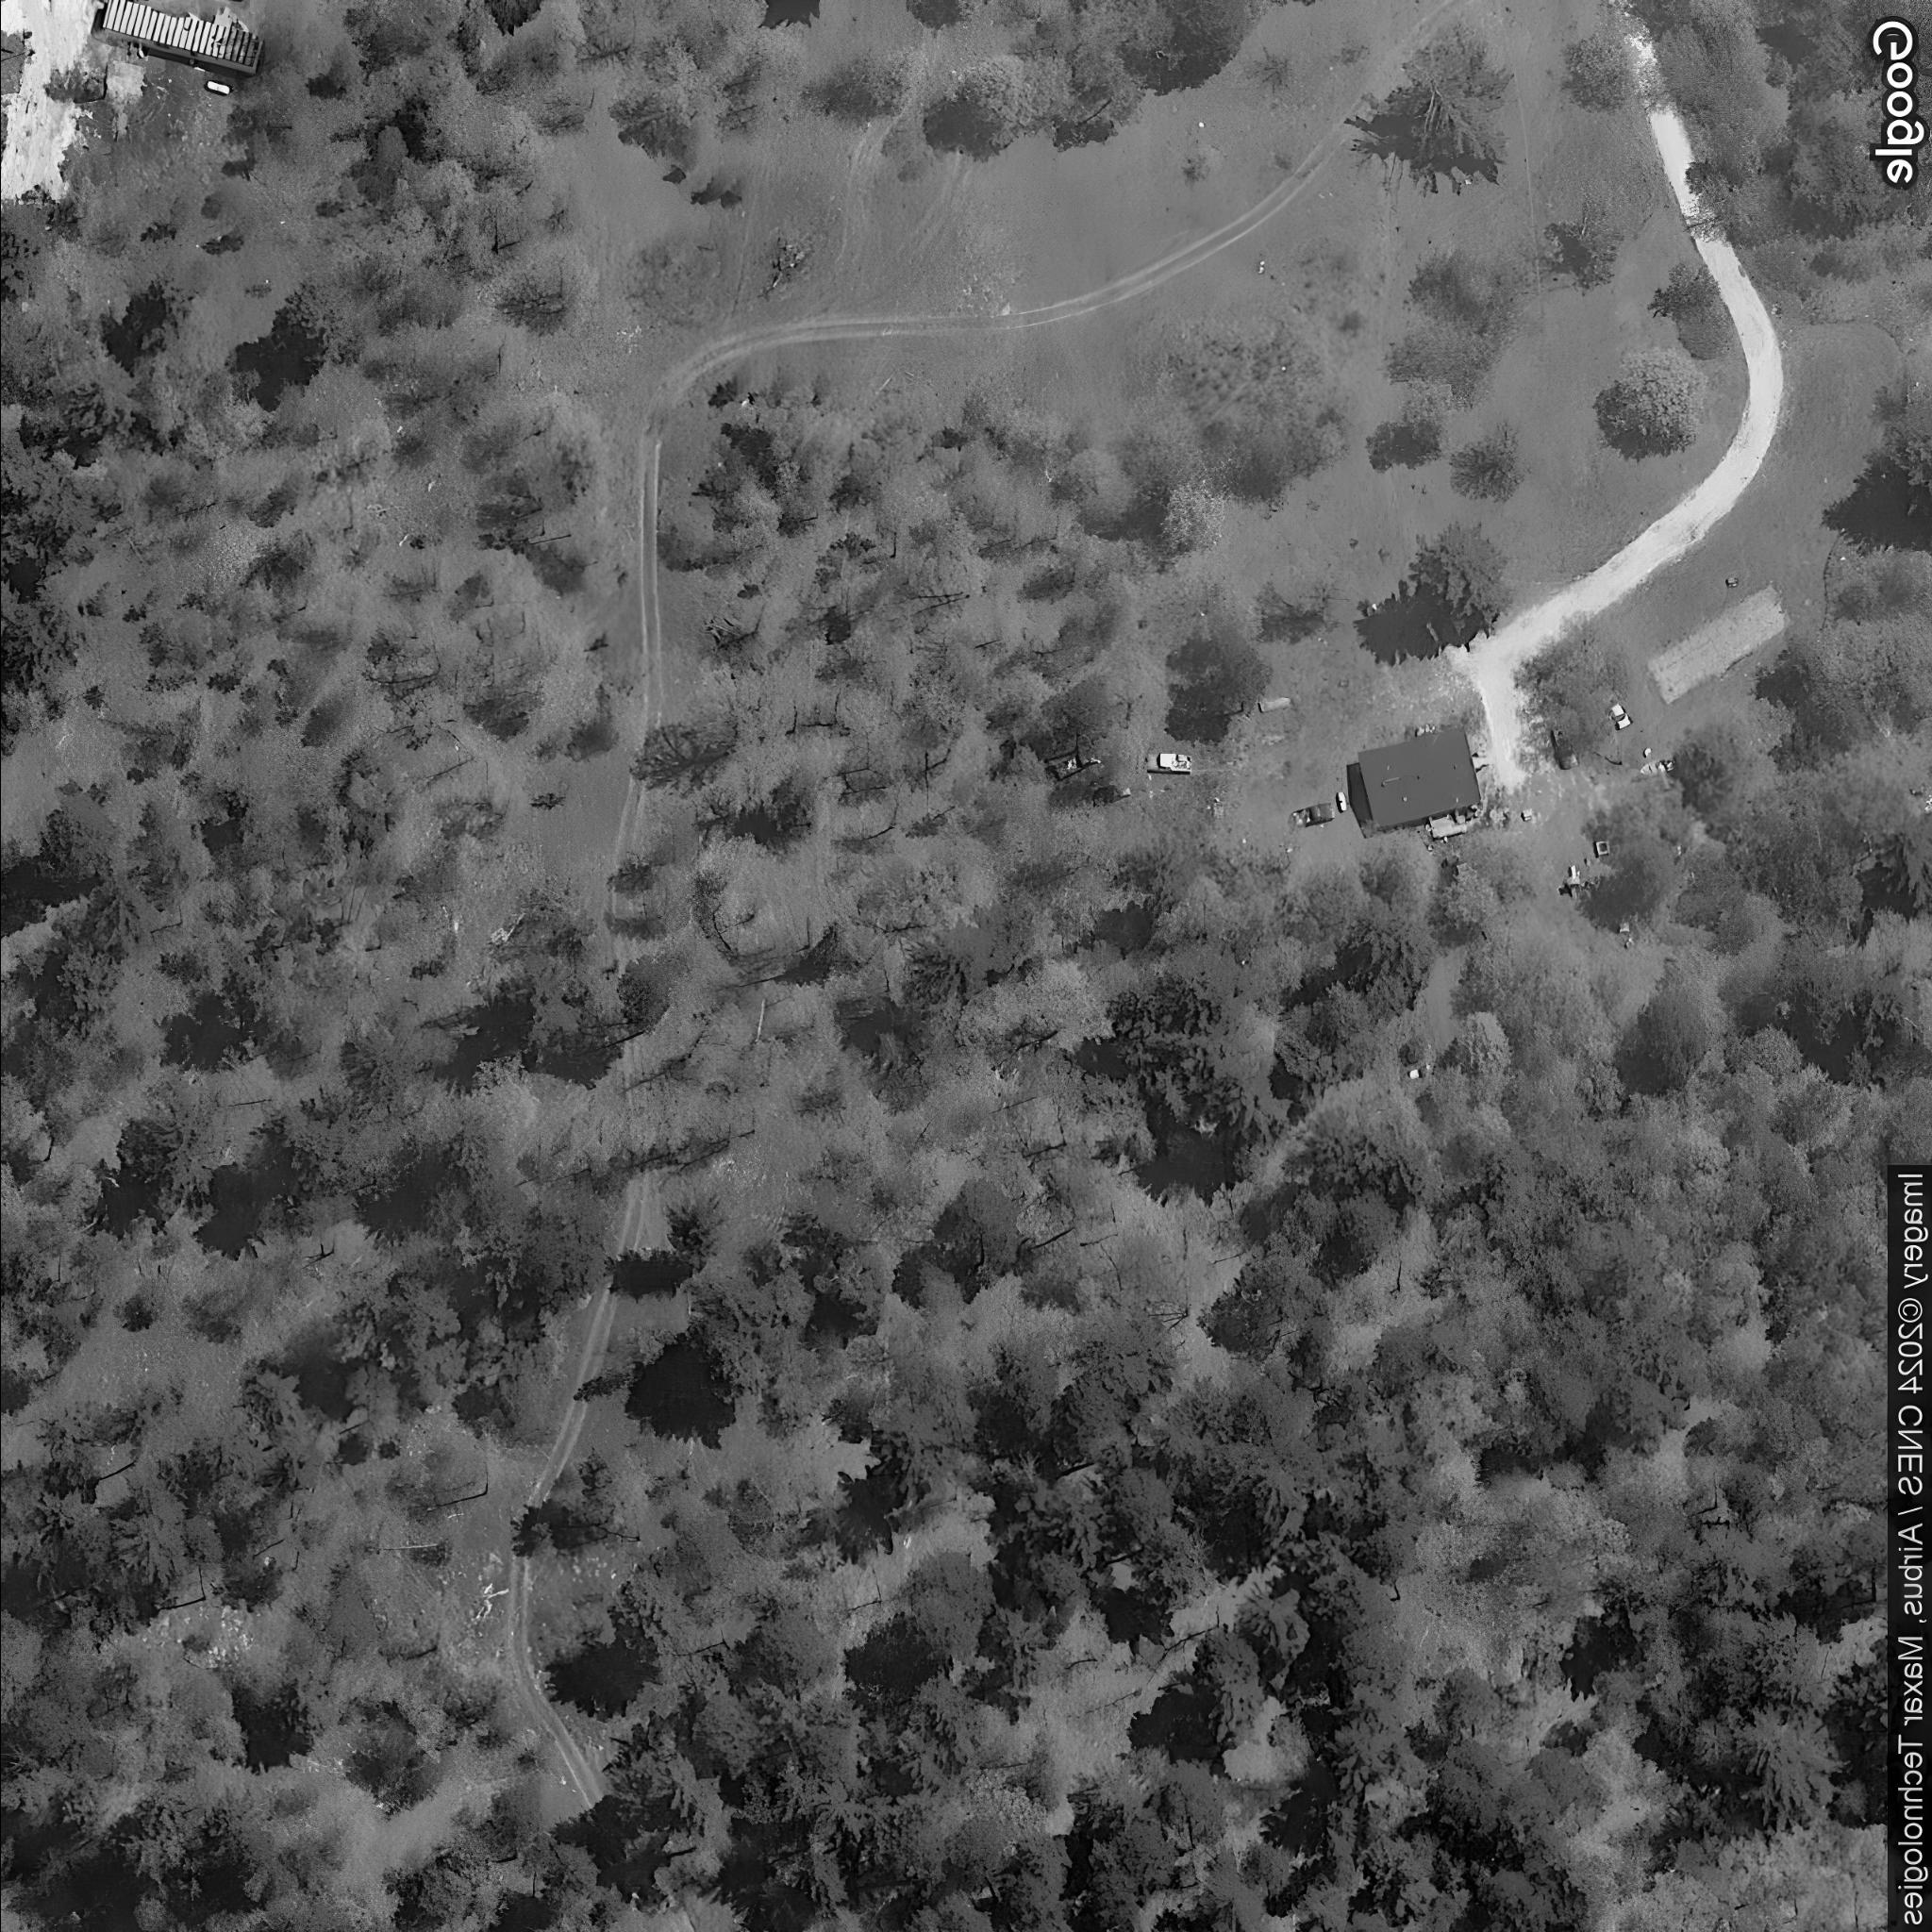House: (1353, 724, 1483, 833)
Propane: (202, 74, 234, 101), (1334, 791, 1348, 816)
Trailer: (103, 0, 264, 76)
